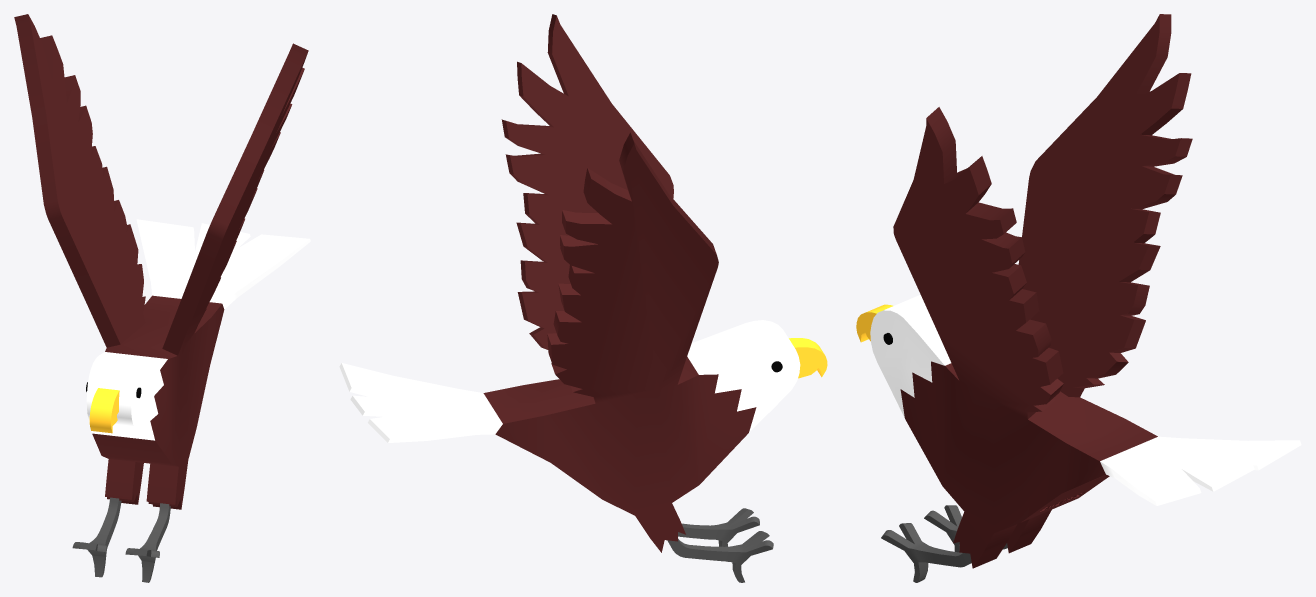
The model's file is eagle.glb.
3 renders of one model, left to right at view 1: azimuth 30°, elevation 25°; view 2: azimuth 150°, elevation 25°; view 3: azimuth 270°, elevation 25°, orthographic. The views are drawn at different scales.
Visible parts, largest first — view 1: Cube.116; view 2: Cube.116; view 3: Cube.116.
Part boxes in pixels (x1,y1,x2,y2): Cube.116: (14, 14, 310, 582); Cube.116: (339, 14, 827, 582); Cube.116: (856, 14, 1301, 582).
Size of the model in its own units: 1.58 by 2.16 by 1.55.
1 material, 1 textured.
